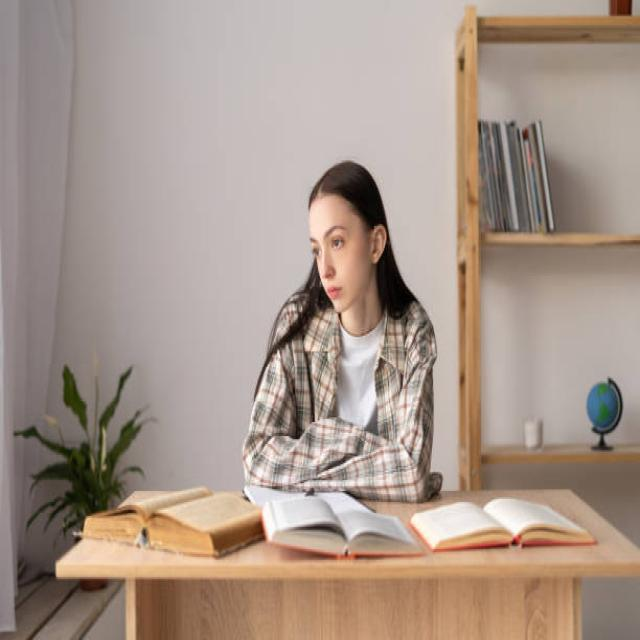Looking away: (309, 193, 373, 312)
